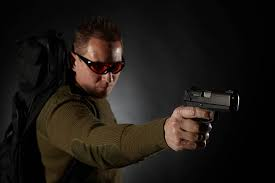gun: (170, 85, 240, 153)
